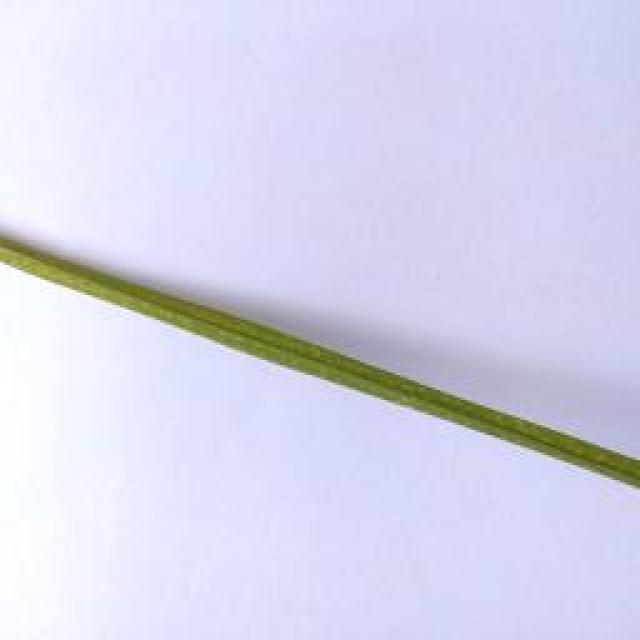Healthy-Plant: (262, 322, 354, 389), (0, 232, 92, 295), (180, 293, 261, 360), (355, 357, 439, 420), (94, 267, 179, 329), (439, 391, 520, 446), (521, 415, 583, 471), (584, 438, 640, 494)
